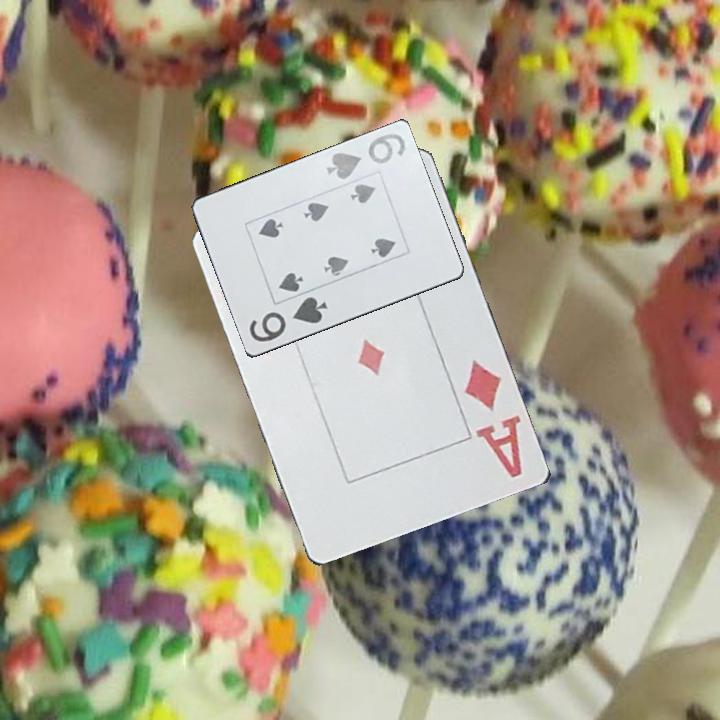6s: (322, 130, 408, 183), (245, 293, 331, 345)
Ad: (459, 356, 526, 481)
